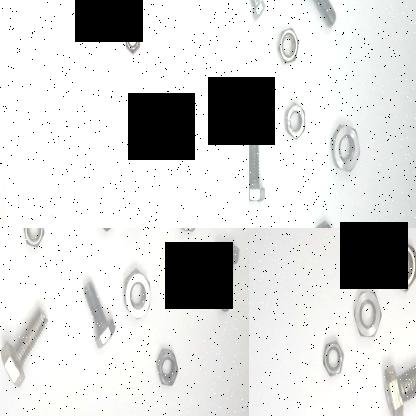Bolts: (0, 301, 56, 387), (77, 271, 116, 354), (206, 235, 240, 314), (377, 348, 416, 416), (249, 127, 266, 212), (297, 0, 337, 32)
NUTS: (326, 109, 362, 179), (349, 282, 380, 342), (118, 266, 152, 319), (388, 237, 416, 297), (316, 330, 348, 380), (150, 342, 180, 394), (272, 23, 302, 68), (283, 96, 309, 146), (14, 228, 47, 254), (121, 21, 142, 57), (309, 215, 339, 228), (173, 228, 201, 240), (93, 228, 117, 238)
